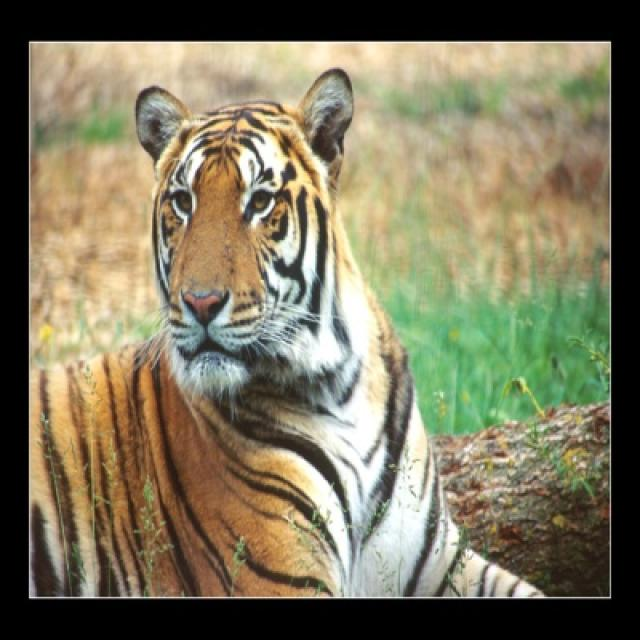Tiger: (30, 69, 542, 595)
